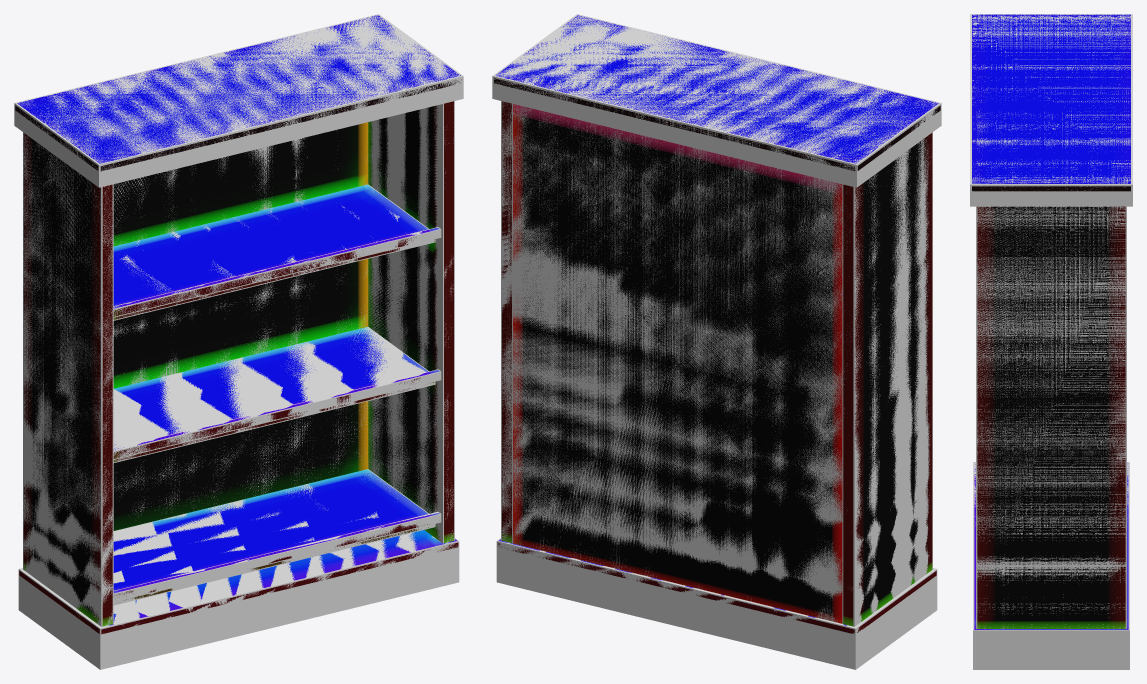
Rendered from prop_display_cabinet.fbx.
3 renders of one model, left to right at view 1: azimuth 30°, elevation 25°; view 2: azimuth 150°, elevation 25°; view 3: azimuth 270°, elevation 25°, orthographic. The views are drawn at different scales.
Visible parts, largest first — view 1: prop_display_cabinet, COL_3, COL_0, COL_1, COL_2, COL_7, COL_4, COL_5, COL_6, COL_8, COL_10, COL_9; view 2: prop_display_cabinet, COL_4, COL_3, COL_1, COL_0, COL_2; view 3: prop_display_cabinet, COL_2, COL_3, COL_0.
Boxes of the visible parts, <box> form: prop_display_cabinet: <box>15,15,461,634</box>; COL_3: <box>14,14,463,187</box>; COL_0: <box>18,532,459,669</box>; COL_1: <box>23,132,113,626</box>; COL_2: <box>368,101,454,543</box>; COL_7: <box>113,327,435,462</box>; COL_4: <box>113,130,368,516</box>; COL_5: <box>113,469,435,605</box>; COL_6: <box>113,512,441,602</box>; COL_8: <box>113,369,441,459</box>; COL_10: <box>113,227,441,317</box>; COL_9: <box>113,184,435,320</box>; prop_display_cabinet: <box>494,15,940,633</box>; COL_4: <box>513,104,842,622</box>; COL_3: <box>492,14,941,187</box>; COL_1: <box>842,132,932,626</box>; COL_0: <box>496,538,937,669</box>; COL_2: <box>501,101,512,543</box>; prop_display_cabinet: <box>972,14,1130,629</box>; COL_2: <box>976,206,1126,628</box>; COL_3: <box>970,14,1132,206</box>; COL_0: <box>973,462,1129,669</box>.
Size of the model in its own units: 1.34 by 1.78 by 0.54.
